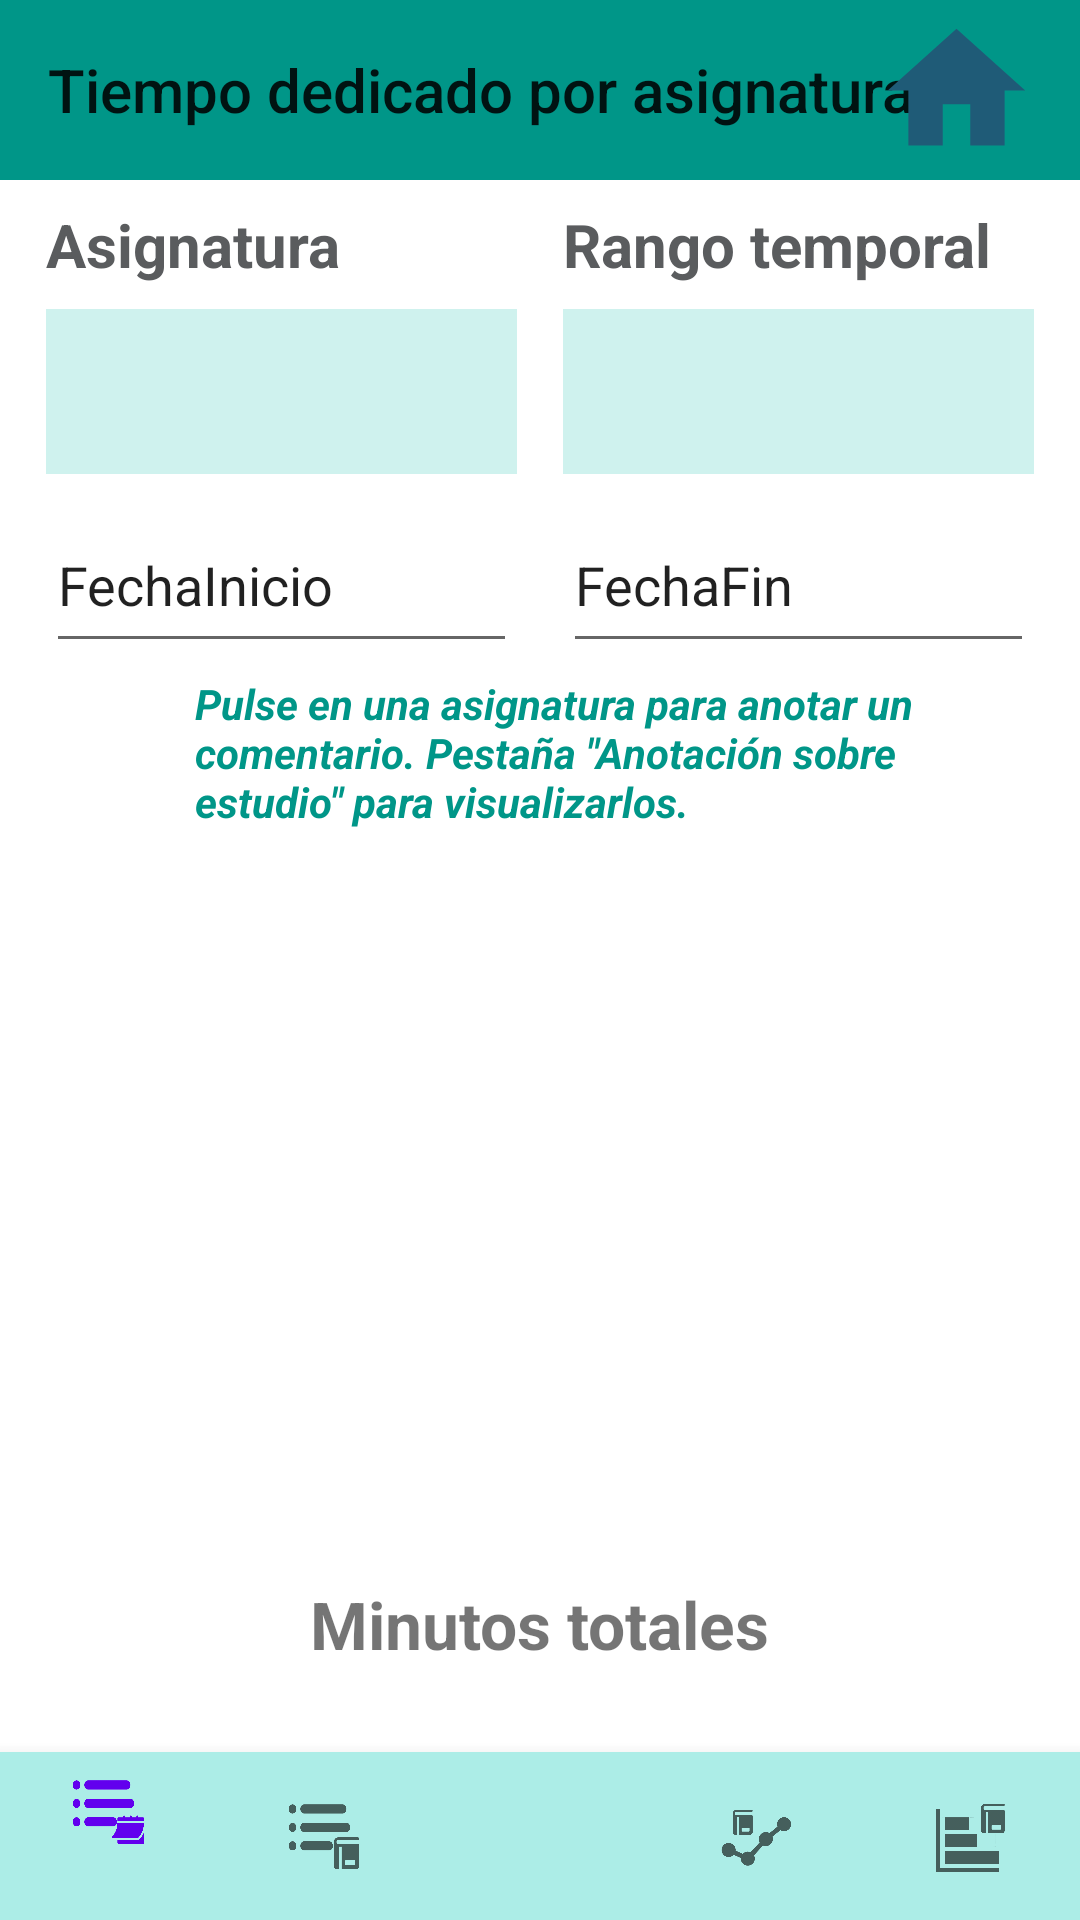

Screen size 1080 × 1920. Icon name, then its box in pixels as bbox=(x1, y1, x2, y2):
home: bbox=(884, 29, 1025, 146)
